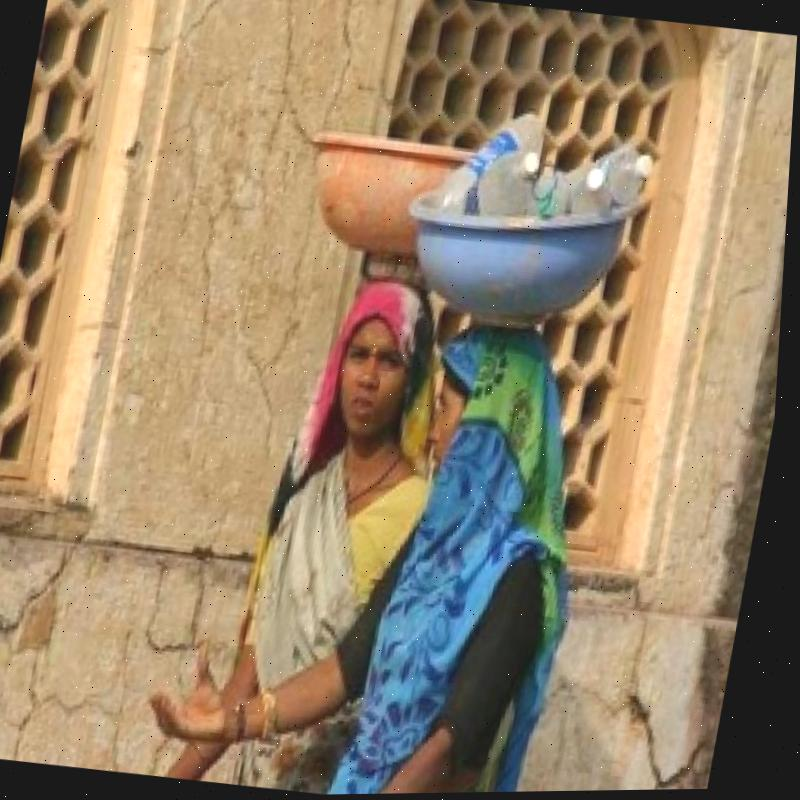botella: (439, 105, 547, 220), (579, 142, 658, 214), (475, 155, 537, 218), (570, 166, 619, 219), (530, 168, 577, 221)
